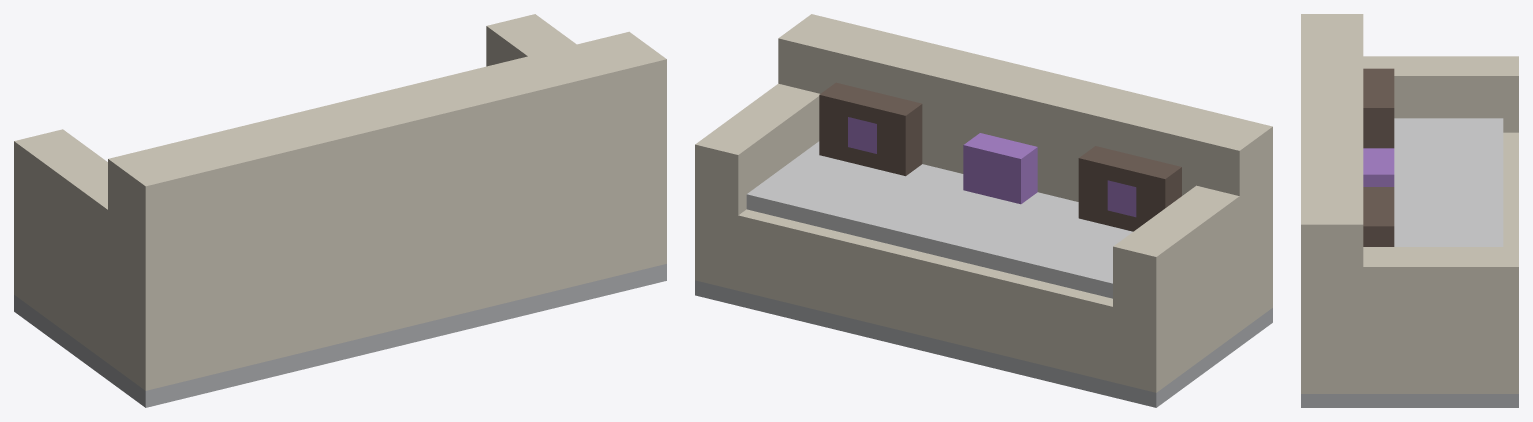
Rendered from canape_salon.glb.
3 views of the same model, side by side, from view 1: azimuth 30°, elevation 25°; view 2: azimuth 150°, elevation 25°; view 3: azimuth 270°, elevation 25° (orthographic). The views are drawn at different scales.
Visible parts, largest first — view 1: main; view 2: main; view 3: main.
Part boxes in pixels (<box>): main: <box>14,14,666,407</box>; main: <box>695,14,1272,407</box>; main: <box>1301,14,1518,407</box>.
Bounding box in the file's own units: 2 × 0.8125 × 0.875.
